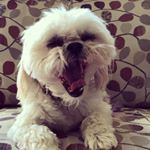puppy: (13, 5, 126, 150)
